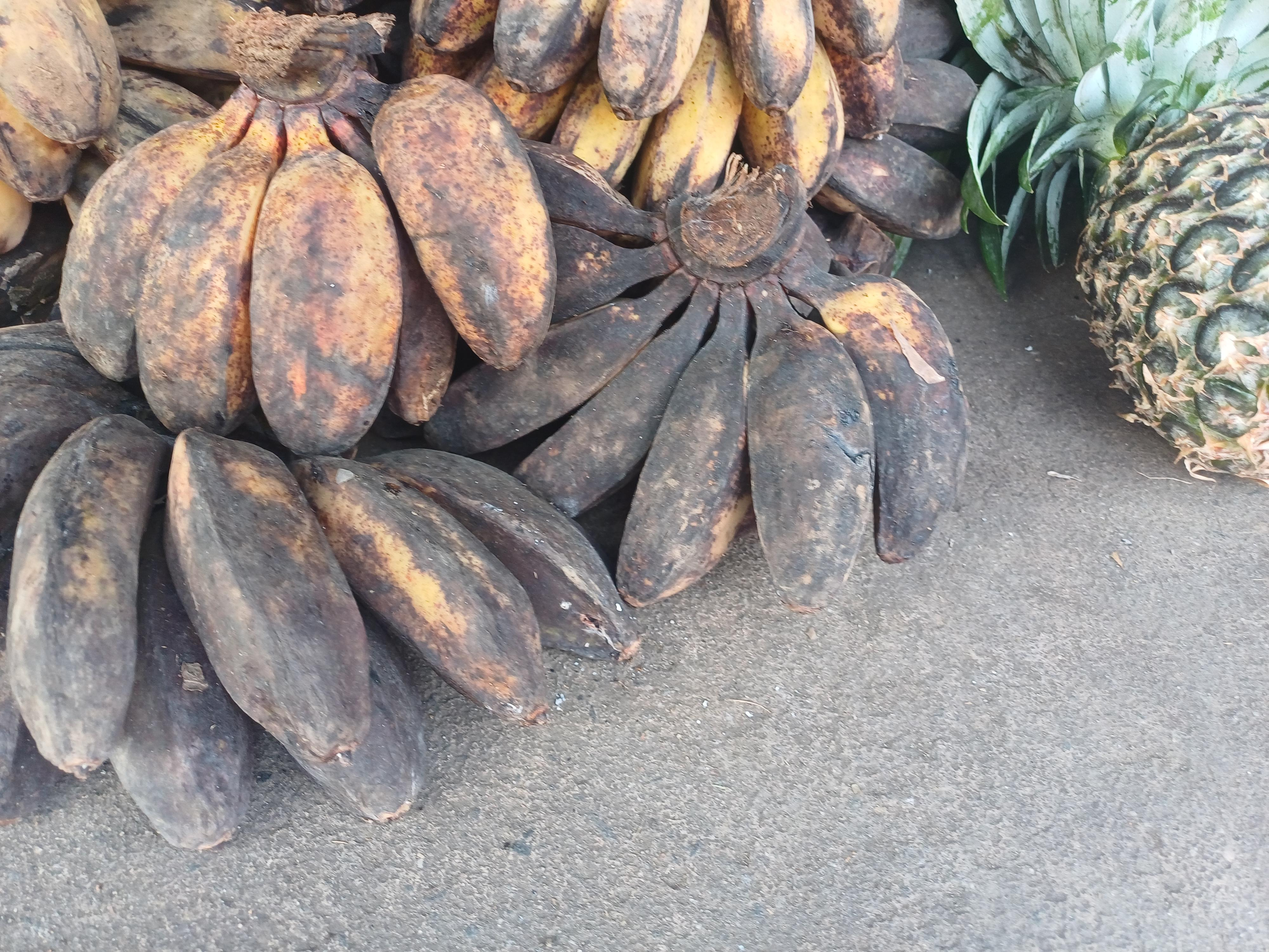overripe: (0, 320, 641, 852), (423, 142, 969, 622), (816, 0, 980, 237)
ripe: (61, 75, 555, 455), (400, 0, 904, 213), (0, 0, 271, 248)
